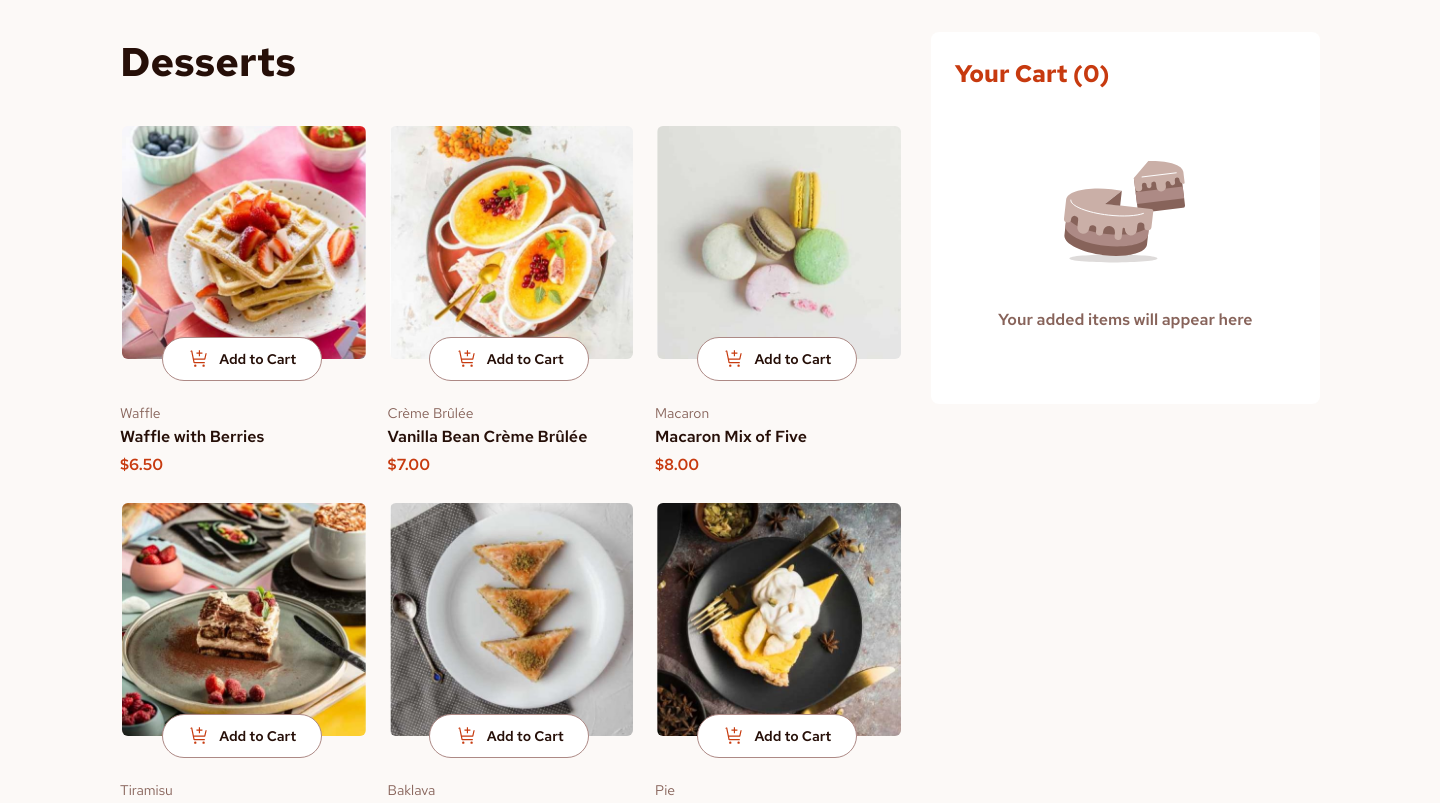
App Integration - Full Screen Interaction › Clicking "Add to Cart" updates the cart section appropriately
The image size is (1440, 803).
Expected: the heading "Your Cart (0)" is shown, [955,58,1110,89]
Expected: the text "Confirm Order" is not shown
Note: Simulate a real mouse click
Click the 1st button "Add to Cart" at (242, 359), box [162,337,322,381]
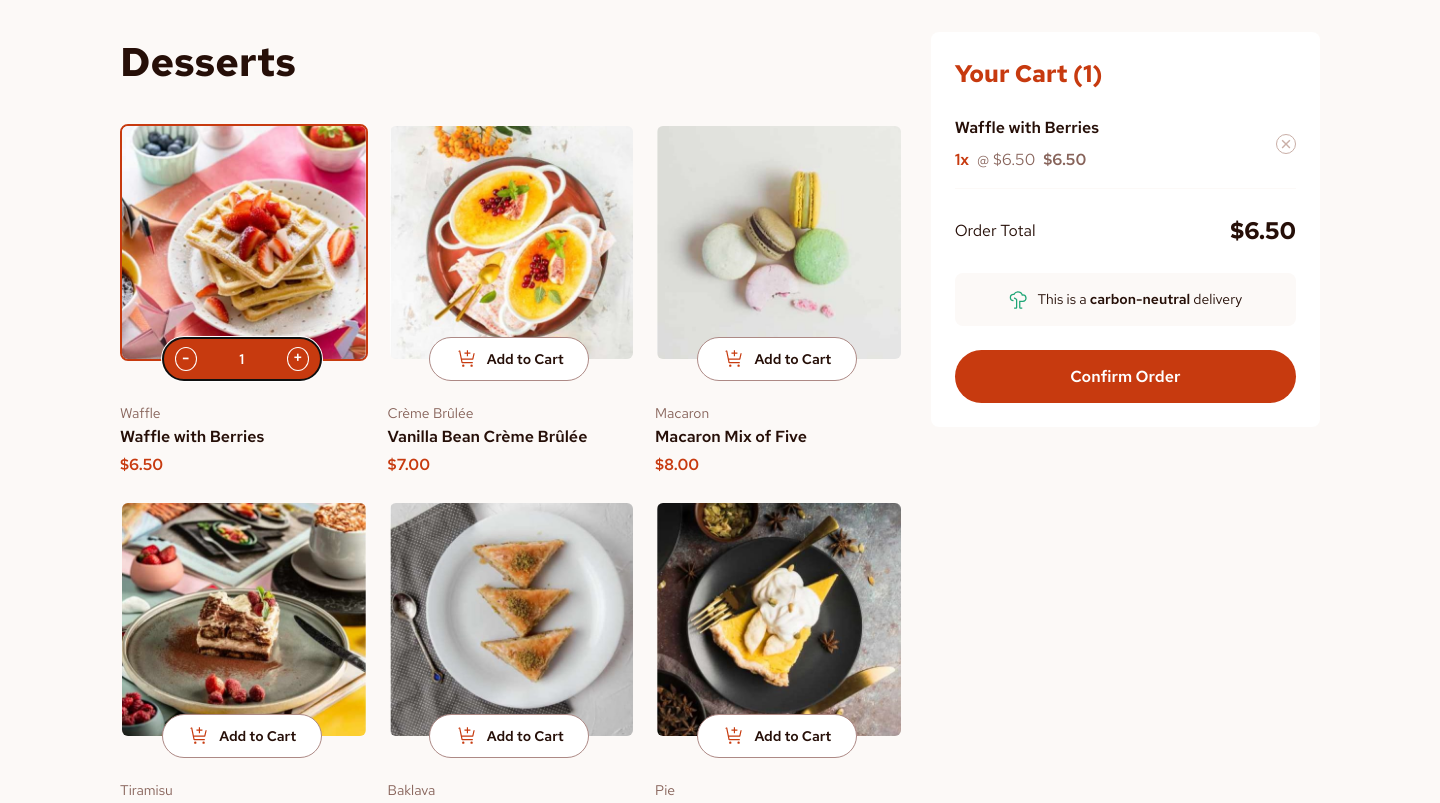
Result: the heading "Your Cart (1)" is shown at [955,58,1103,89]
Result: the button "Confirm Order" is shown at [955,350,1296,403]
